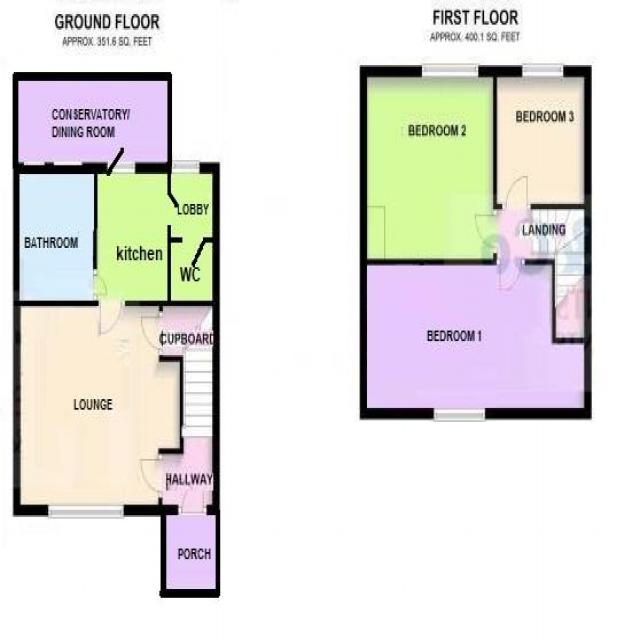DOOR: (138, 452, 164, 501), (137, 309, 163, 356), (496, 258, 526, 296), (474, 208, 497, 255), (97, 300, 126, 337), (501, 175, 531, 210), (105, 142, 136, 175), (167, 190, 189, 227), (92, 267, 108, 302)
ROOM: (360, 258, 592, 420), (13, 300, 184, 517), (359, 65, 498, 265), (92, 144, 185, 336), (493, 65, 592, 210)
WINDOW: (47, 503, 125, 520), (421, 63, 479, 79), (432, 406, 486, 422), (521, 63, 564, 78), (171, 159, 200, 175)
